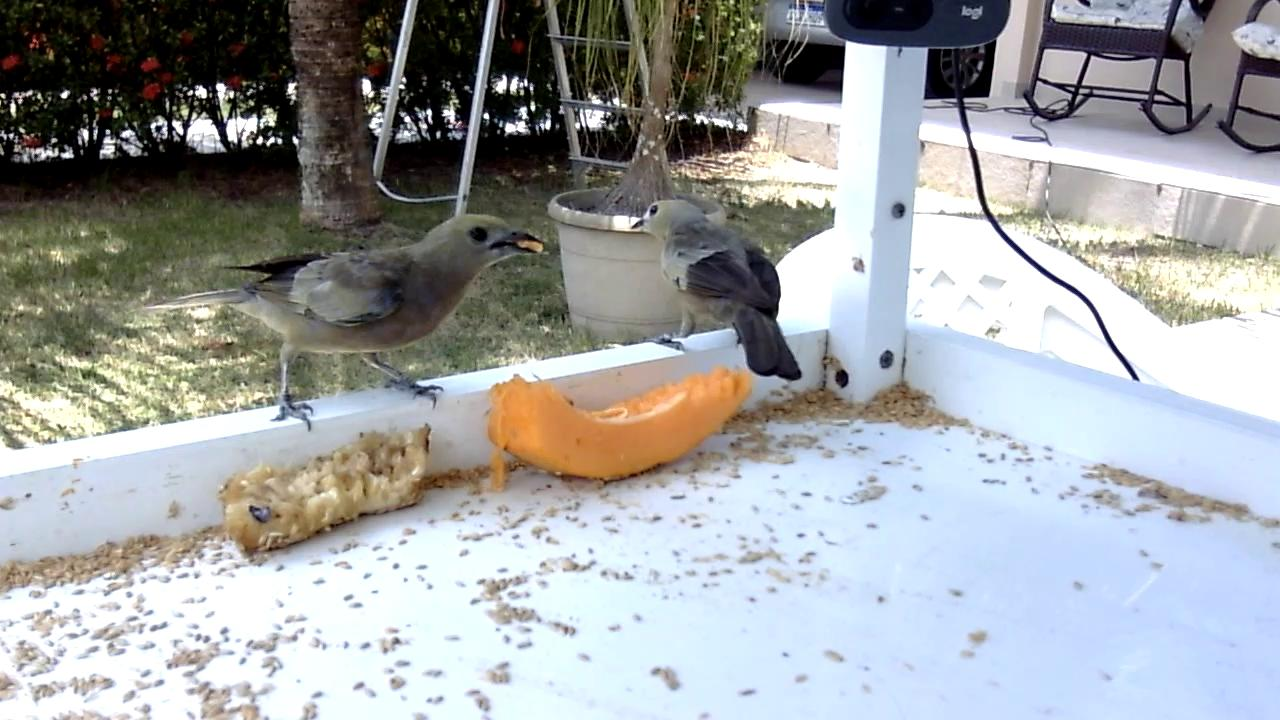sanhaco_do_coqueiro: (138, 211, 549, 435), (627, 198, 806, 385)
